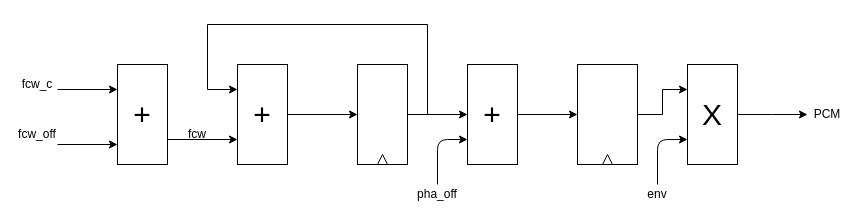
This 864x222 diagram has some shape labels left out. The centre of each missing label's shape, as x and y in pixels:
pha_reg: the point at 382,114
phase to Amplitude LUT: the point at 607,114
